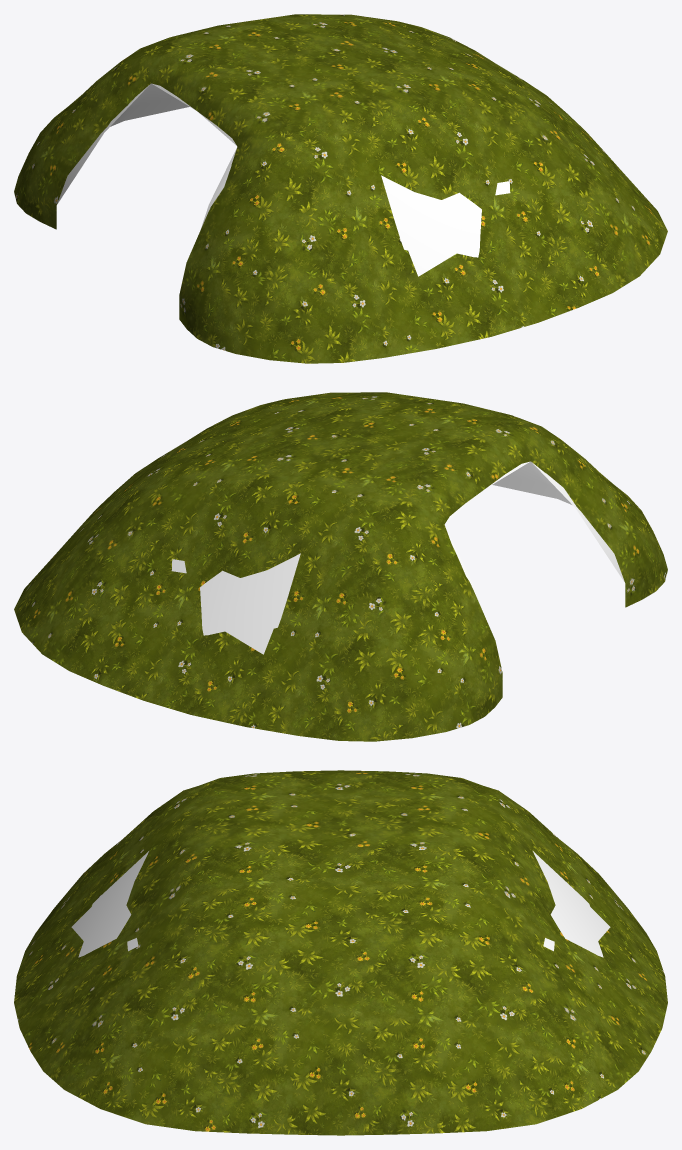
Rendered from bunkerEntrance_ground01.fbx.
The picture shows the model from 3 angles, top to bottom: view 1: azimuth 30°, elevation 25°; view 2: azimuth 150°, elevation 25°; view 3: azimuth 270°, elevation 25°; orthographic projection. The views are drawn at different scales.
Parts seen in each view (by area): view 1: bunkerEntrance_ground01, bunkerEntrance_ground01_COL; view 2: bunkerEntrance_ground01, bunkerEntrance_ground01_COL; view 3: bunkerEntrance_ground01, bunkerEntrance_ground01_COL.
Boxes of the visible parts, left/top/right/bottom form: bunkerEntrance_ground01: left=14, top=14, right=667, bottom=363; bunkerEntrance_ground01_COL: left=57, top=83, right=510, bottom=276; bunkerEntrance_ground01: left=14, top=392, right=667, bottom=741; bunkerEntrance_ground01_COL: left=171, top=461, right=624, bottom=654; bunkerEntrance_ground01: left=14, top=770, right=667, bottom=1135; bunkerEntrance_ground01_COL: left=71, top=851, right=610, bottom=957.
Bounding box in the file's own units: 1044 × 348 × 1174.
